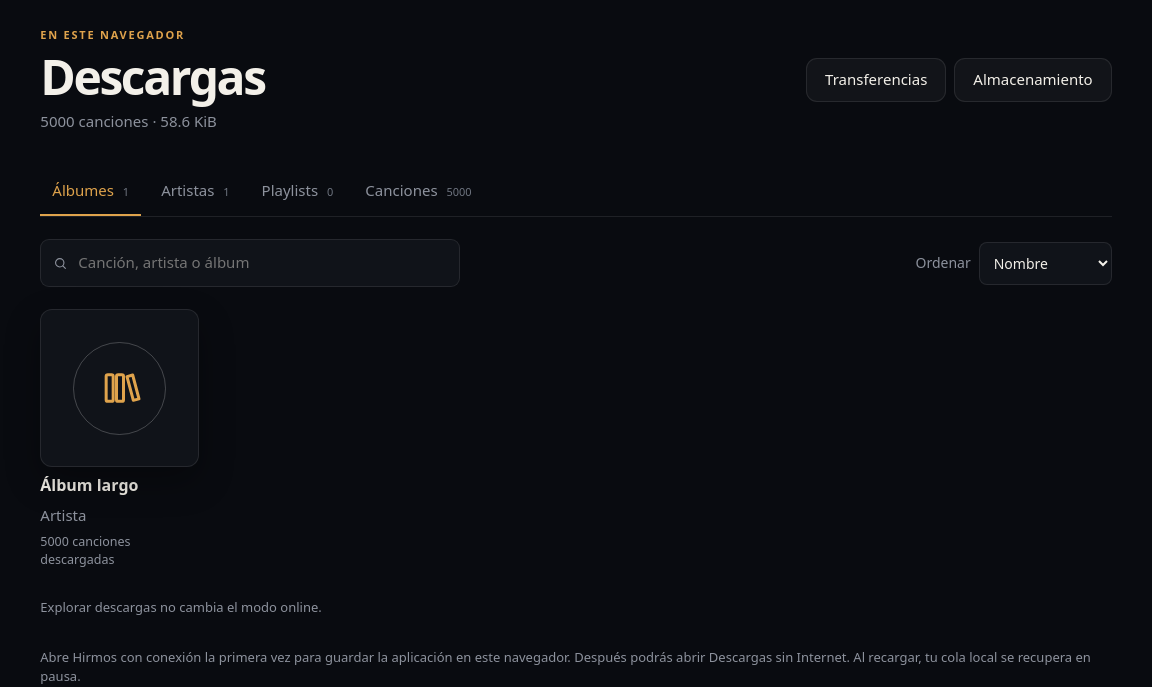
Test: bounds a 5000 song library to 50 rows, searches the whole set and distinguishes selection scopes
The width and height of the screenshot is (1152, 687).
Click the button "Canciones 5000" at (418, 191), box left=353, top=166, right=484, bottom=216
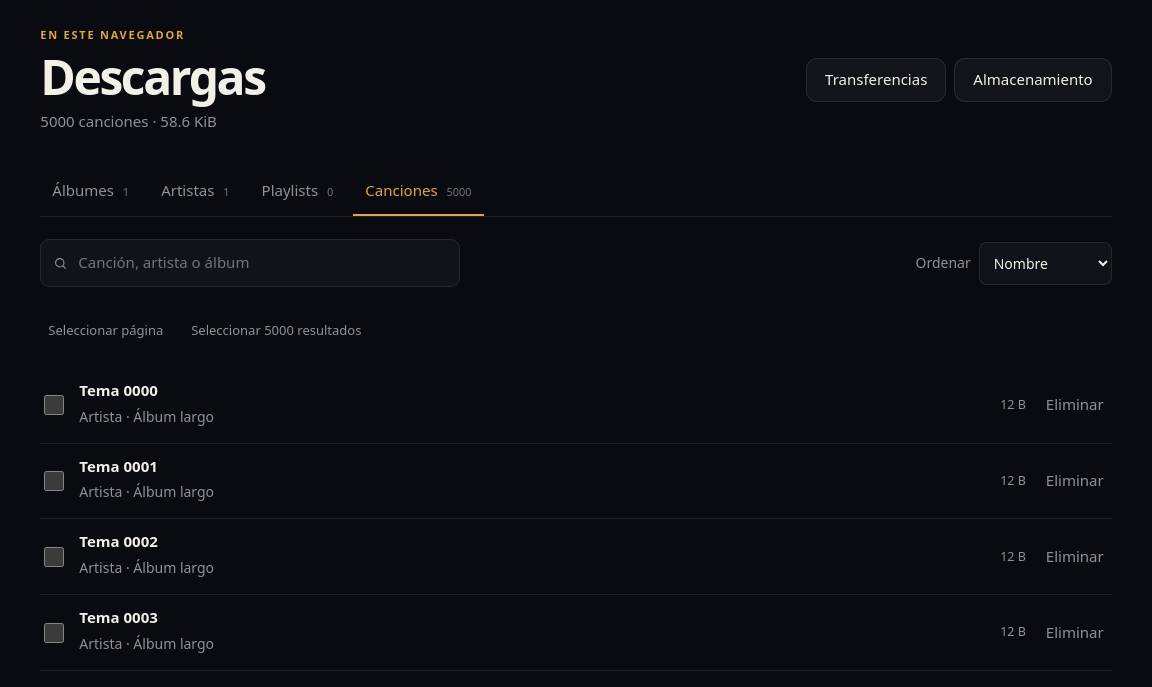
Result: the number of list items is 50
Result: the button "Seleccionar página" is shown
Click the button "Seleccionar página" at (106, 331), box left=40, top=309, right=171, bottom=353
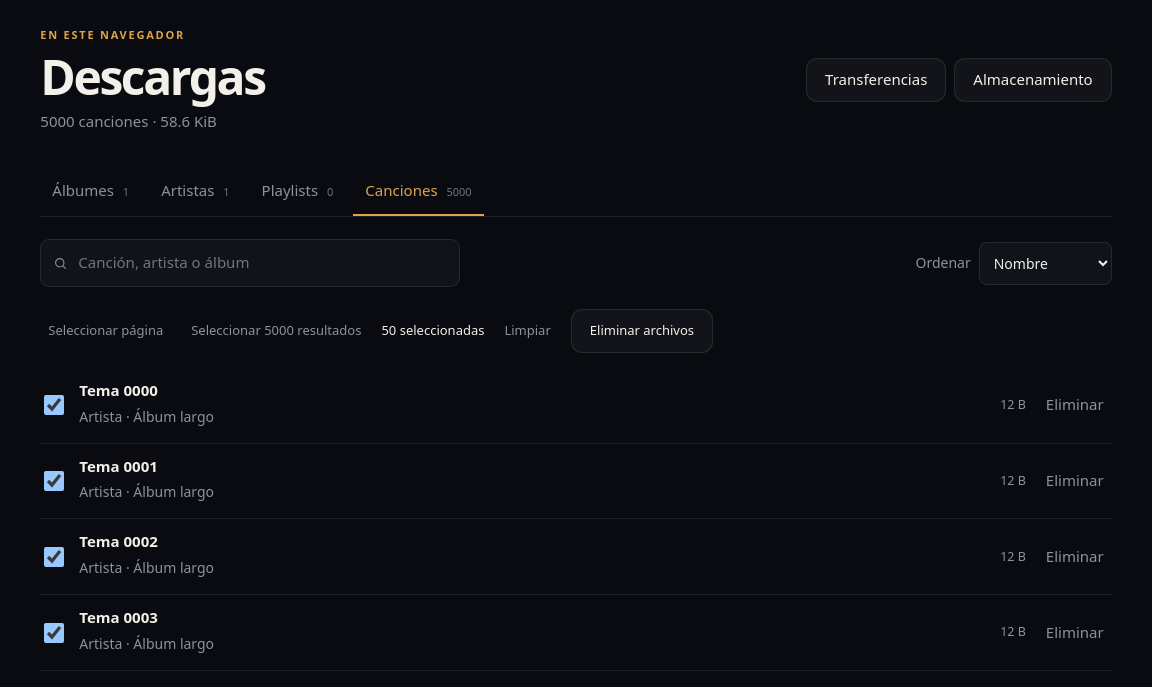
Result: the button "Seleccionar 5000 resultados" is shown
Result: the text "50 seleccionadas" is shown at left=381, top=322, right=484, bottom=340
Click the button "Seleccionar 5000 resultados" at (276, 331), box left=183, top=309, right=369, bottom=353
(page scrolled)
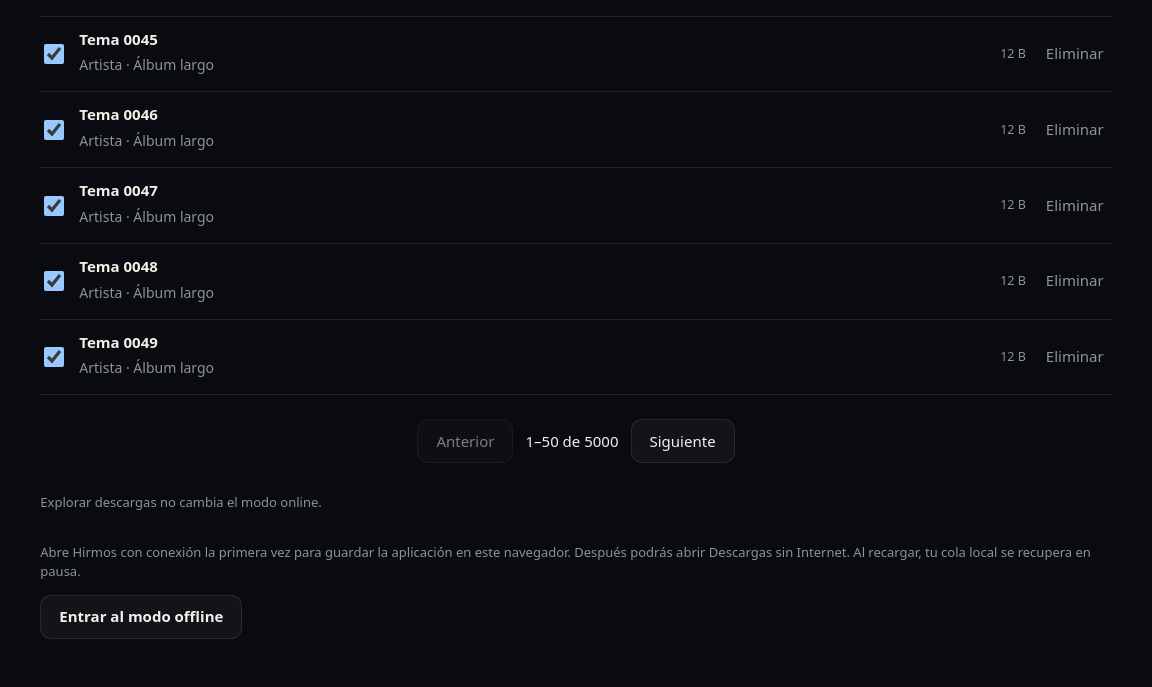
Result: the button "Siguiente" is shown
Click the button "Siguiente" at (683, 441), box left=630, top=419, right=735, bottom=463
(page scrolled)
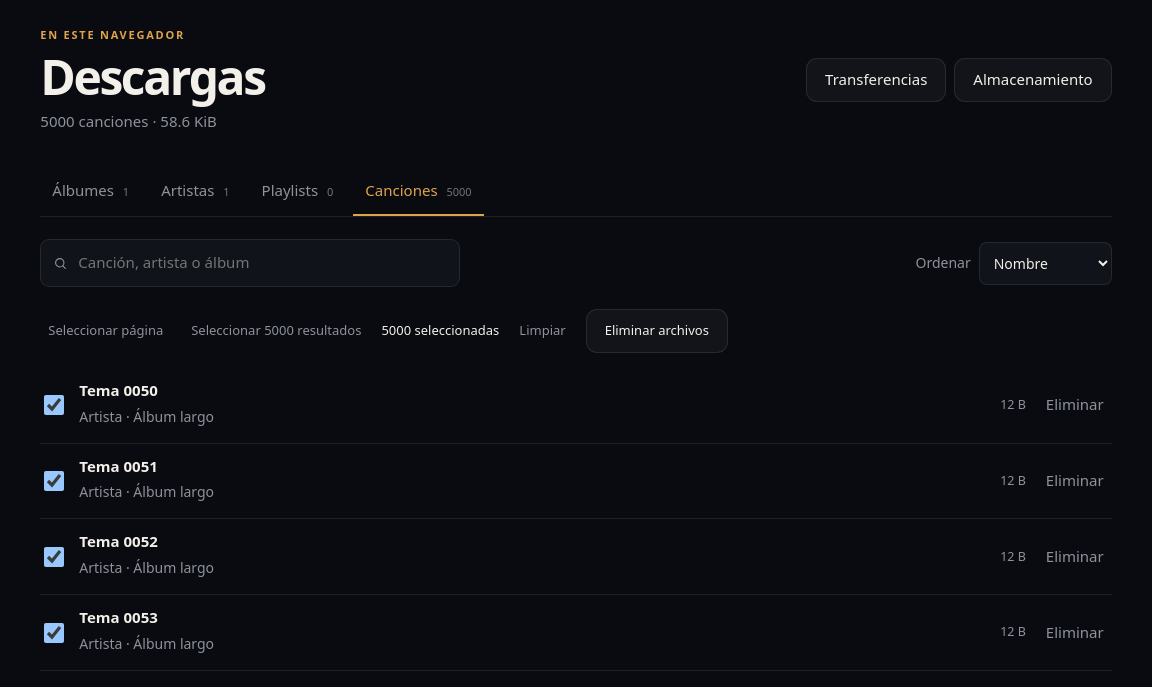
Result: the number of list items is 50
Result: the list with class "tracks" shows "Tema 0050" at left=79, top=380, right=158, bottom=400
Type "4999" into the search field with placeholder "Canción, artista o álbum" at (263, 263), box left=78, top=240, right=447, bottom=286
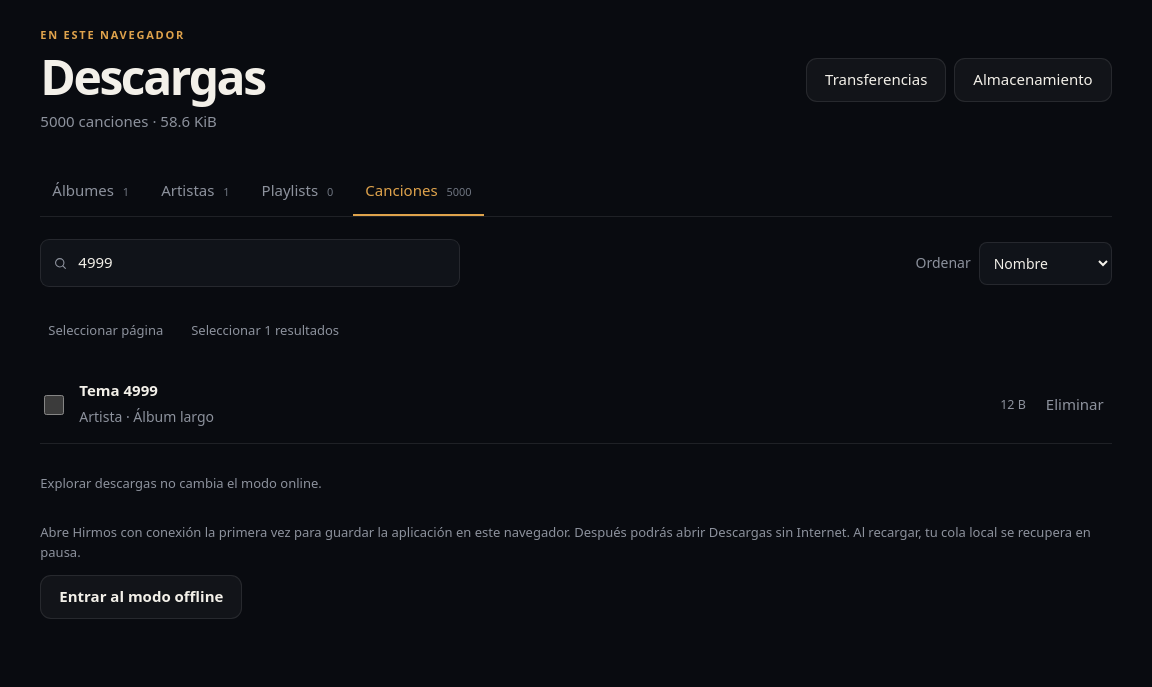
Result: the number of list items is 1 at left=40, top=368, right=1112, bottom=444
Result: the text "Tema 4999" is shown at left=79, top=380, right=158, bottom=400
Result: the text "5000 seleccionadas" is gone
